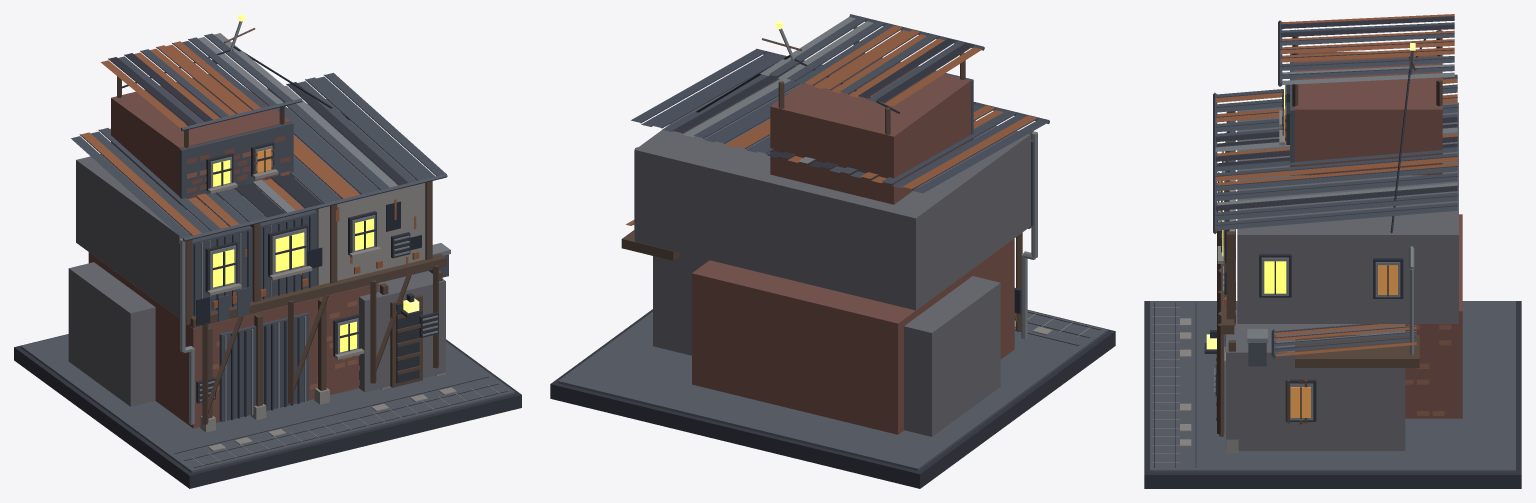
File: gotham_favela_02_8bit.glb
3 views of the same model, side by side, from view 1: azimuth 30°, elevation 25°; view 2: azimuth 150°, elevation 25°; view 3: azimuth 270°, elevation 25° (orthographic). The views are drawn at different scales.
Visible parts, largest first — view 1: SM_Gotham_Favela_02_8bit; view 2: SM_Gotham_Favela_02_8bit; view 3: SM_Gotham_Favela_02_8bit.
Boxes of the visible parts, x1,y1,x2,y2 form: SM_Gotham_Favela_02_8bit: (14,14,521,488); SM_Gotham_Favela_02_8bit: (550,14,1115,488); SM_Gotham_Favela_02_8bit: (1144,14,1521,488).
Bounding box in the file's own units: 9.5 × 9.26 × 8.7.
